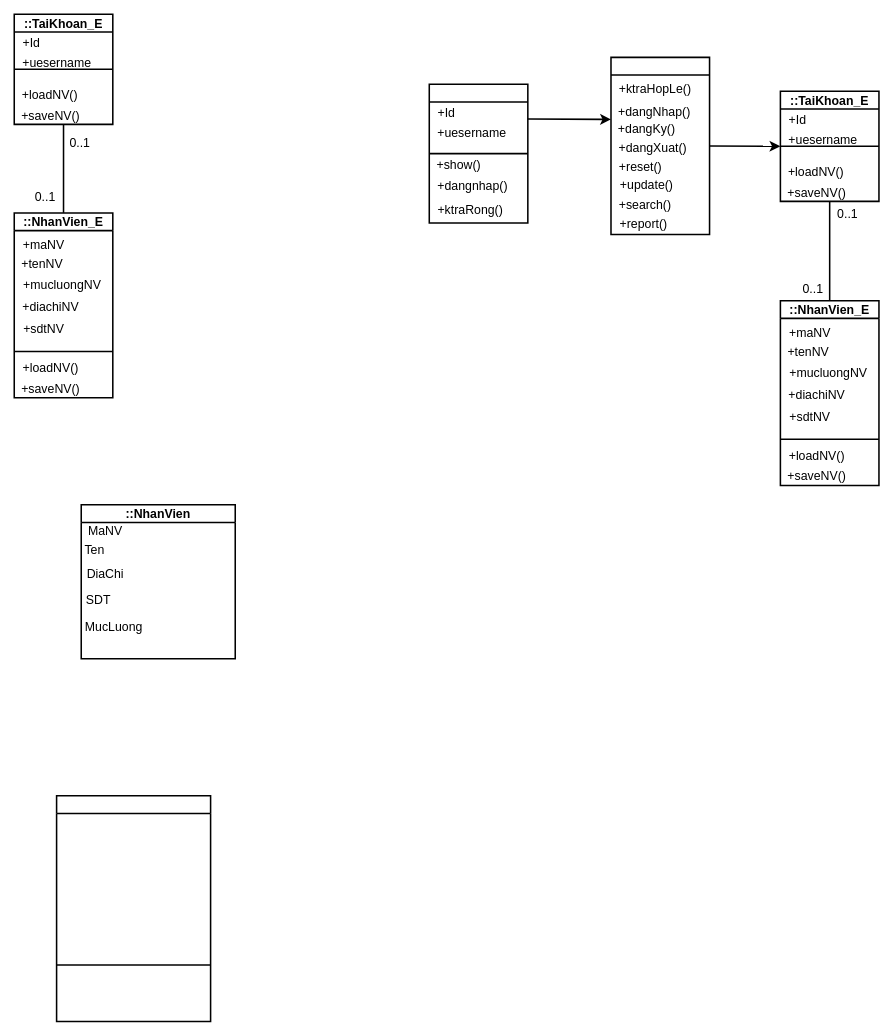
Image size: 893x1035. Some labels were removed from this diagram. Each missing label, with the box of its shape:
::TaiKhoan_C: (610, 56, 710, 235)
::TaiKhoan_V: (428, 83, 528, 223)
Vertical Container: (55, 795, 211, 1022)
